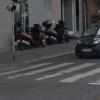motorcycles: (16, 24, 48, 52)
